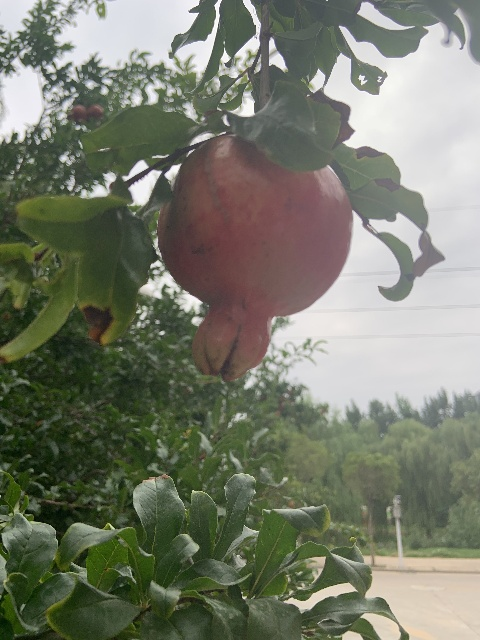ripe: (157, 134, 353, 380)
